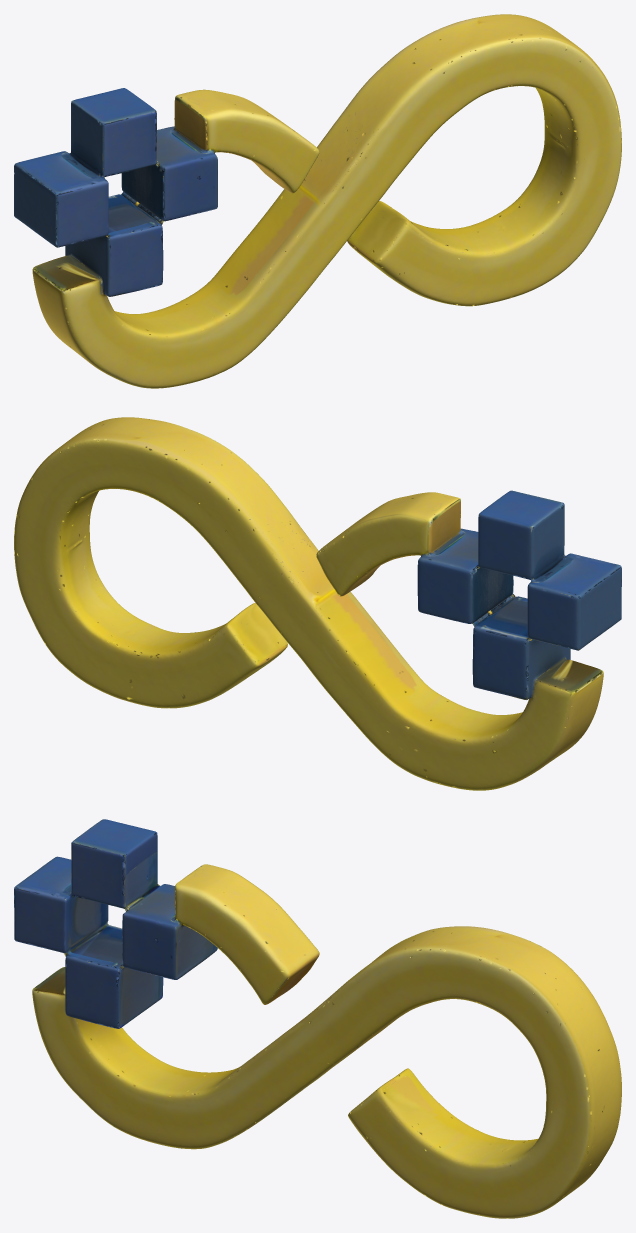
The model's file is loopix_3DModel.fbx.
3 views of the same model, one above another, from view 1: azimuth 30°, elevation 25°; view 2: azimuth 150°, elevation 25°; view 3: azimuth 330°, elevation 25° (orthographic).
Parts seen in each view (by area): view 1: Mesh1.0; view 2: Mesh1.0; view 3: Mesh1.0.
Part boxes in pixels (bbox=[...]): Mesh1.0: bbox=[14, 14, 621, 388]; Mesh1.0: bbox=[14, 417, 621, 790]; Mesh1.0: bbox=[14, 819, 621, 1218].
Bounding box in the file's own units: 200 × 94.37 × 27.12.
1 material, 1 textured.
